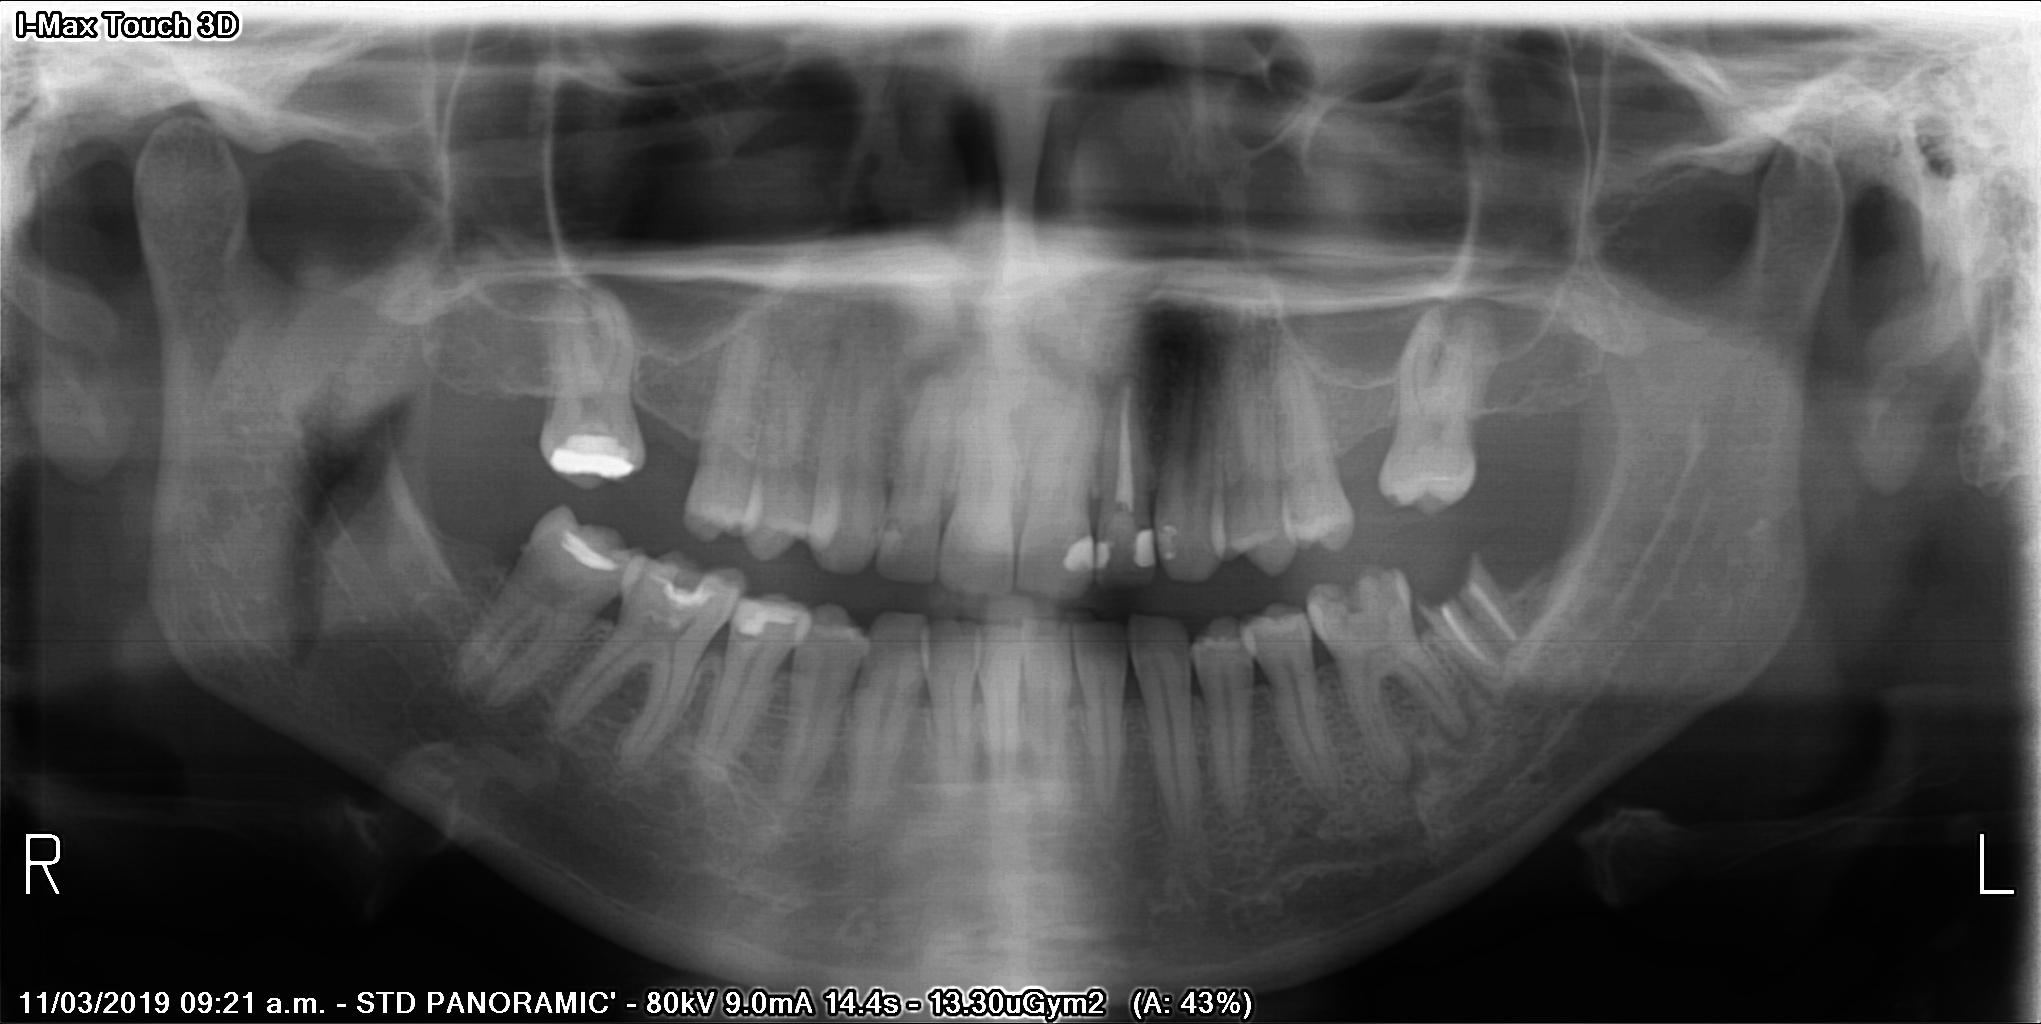Çürük: (537, 422, 642, 485), (548, 519, 624, 581), (730, 590, 804, 643), (645, 568, 722, 610), (1055, 519, 1096, 579), (1122, 519, 1156, 576), (1086, 530, 1122, 576), (881, 532, 906, 568), (1160, 519, 1178, 567)
Çürük Bölgesi: (1314, 572, 1414, 653)
